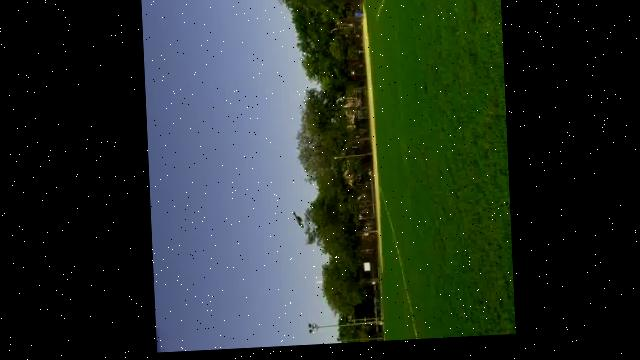drone: (284, 208, 305, 237)
